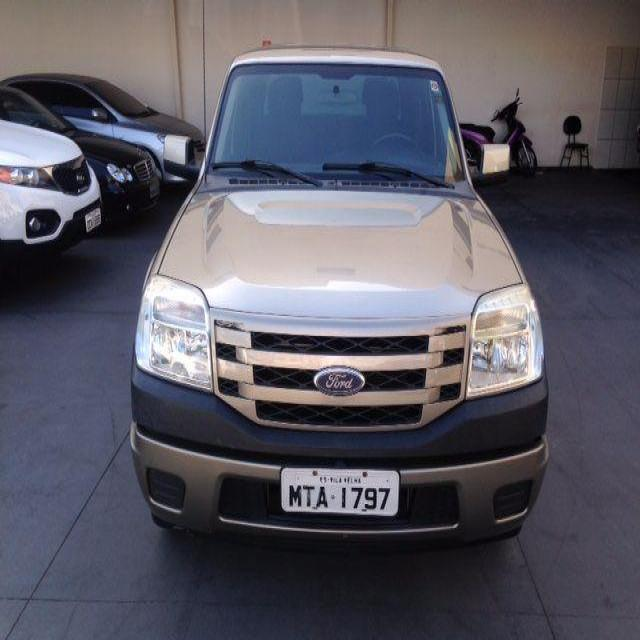Placa: (279, 463, 403, 521)
